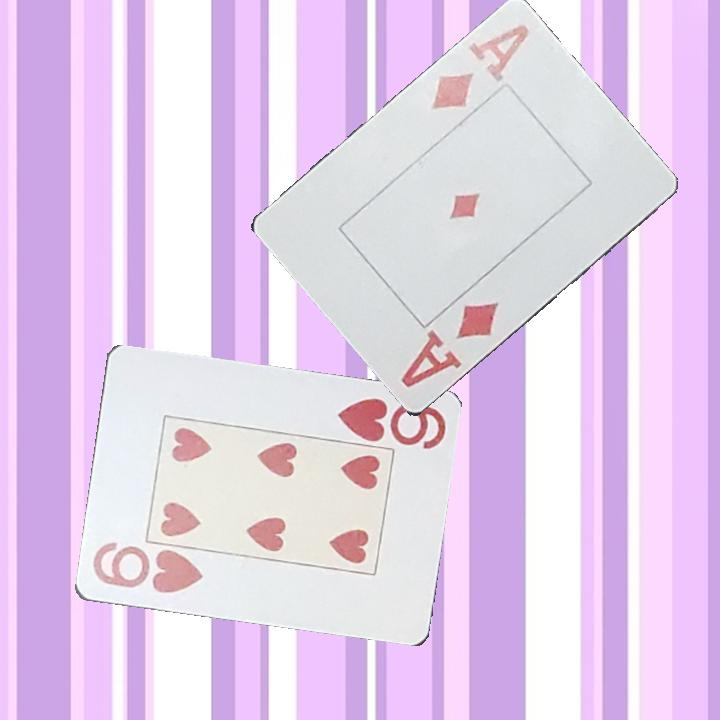6h: (88, 540, 206, 597), (333, 394, 448, 451)
Ad: (397, 297, 502, 392), (427, 21, 533, 114)
